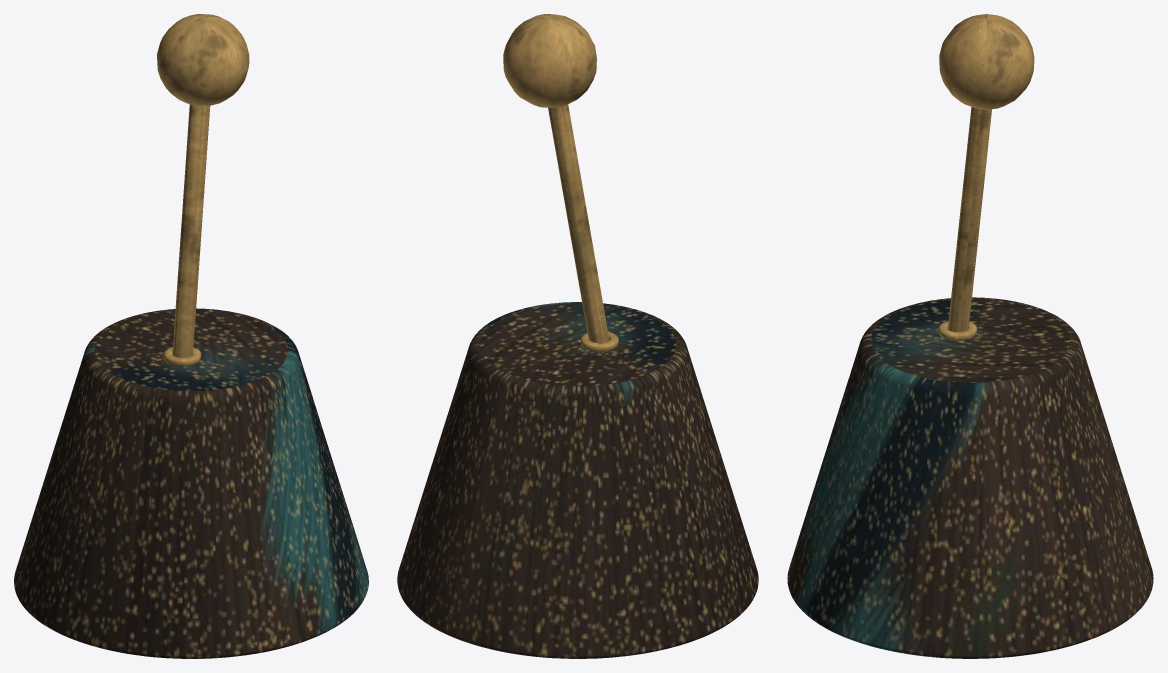
Rendered from pawn-black.glb.
3 views of the same model, side by side, from view 1: azimuth 30°, elevation 25°; view 2: azimuth 150°, elevation 25°; view 3: azimuth 270°, elevation 25° (orthographic). The views are drawn at different scales.
Visible parts, largest first — view 1: Telo, Hlavicka, Jehla; view 2: Telo, Hlavicka, Jehla; view 3: Telo, Hlavicka, Jehla.
Part boxes in pixels (box(x1,y1,x2,y2)): Telo: box(14, 308, 368, 658); Hlavicka: box(157, 14, 249, 106); Jehla: box(172, 104, 210, 357); Telo: box(397, 302, 758, 658); Hlavicka: box(503, 14, 596, 107); Jehla: box(548, 104, 609, 342); Telo: box(787, 297, 1153, 658); Hlavicka: box(939, 14, 1034, 109); Jehla: box(947, 107, 991, 331).
Size of the model in its own units: 0.6352 by 1.1 by 0.6352.
Materials: 3 (3 with a texture image).
